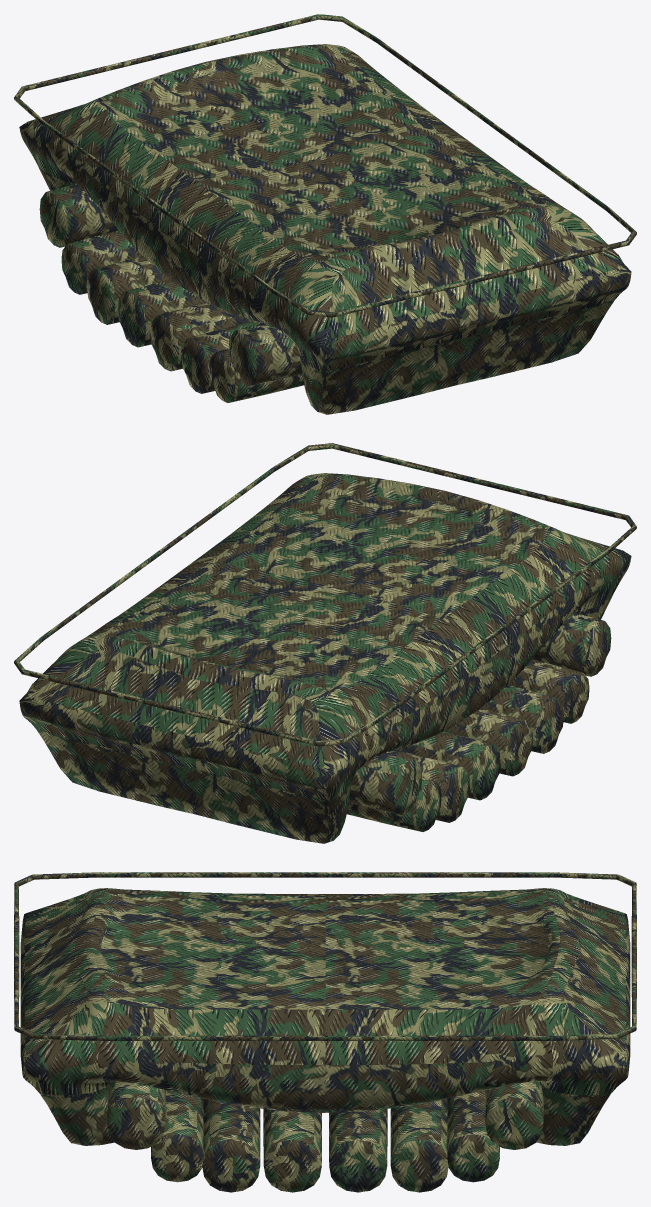
The model's file is tankki.fbx.
The picture shows the model from 3 angles, top to bottom: view 1: azimuth 30°, elevation 25°; view 2: azimuth 150°, elevation 25°; view 3: azimuth 270°, elevation 25°; orthographic projection.
Visible parts, largest first — view 1: Tankki; view 2: Tankki; view 3: Tankki.
Boxes of the visible parts, x1,y1,x2,y2 form: Tankki: (14, 14, 636, 414); Tankki: (14, 443, 636, 843); Tankki: (14, 872, 636, 1192).
Bounding box in the file's own units: 7.62 × 3.37 × 11.43.
